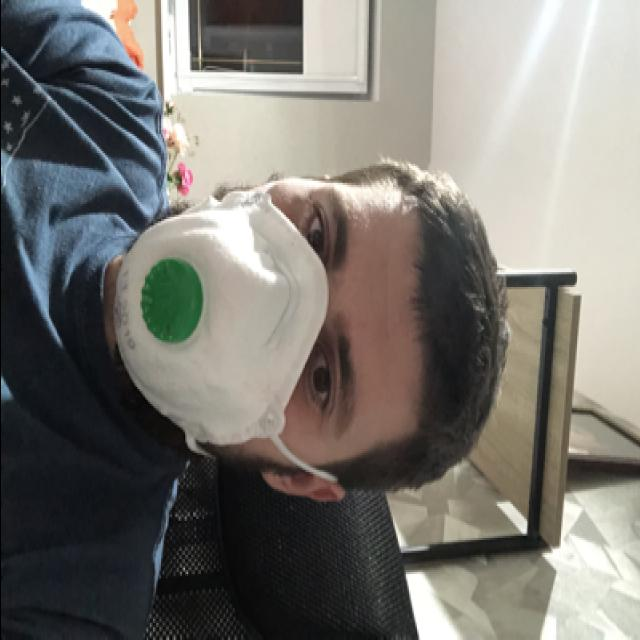with_mask: (112, 170, 363, 470)
